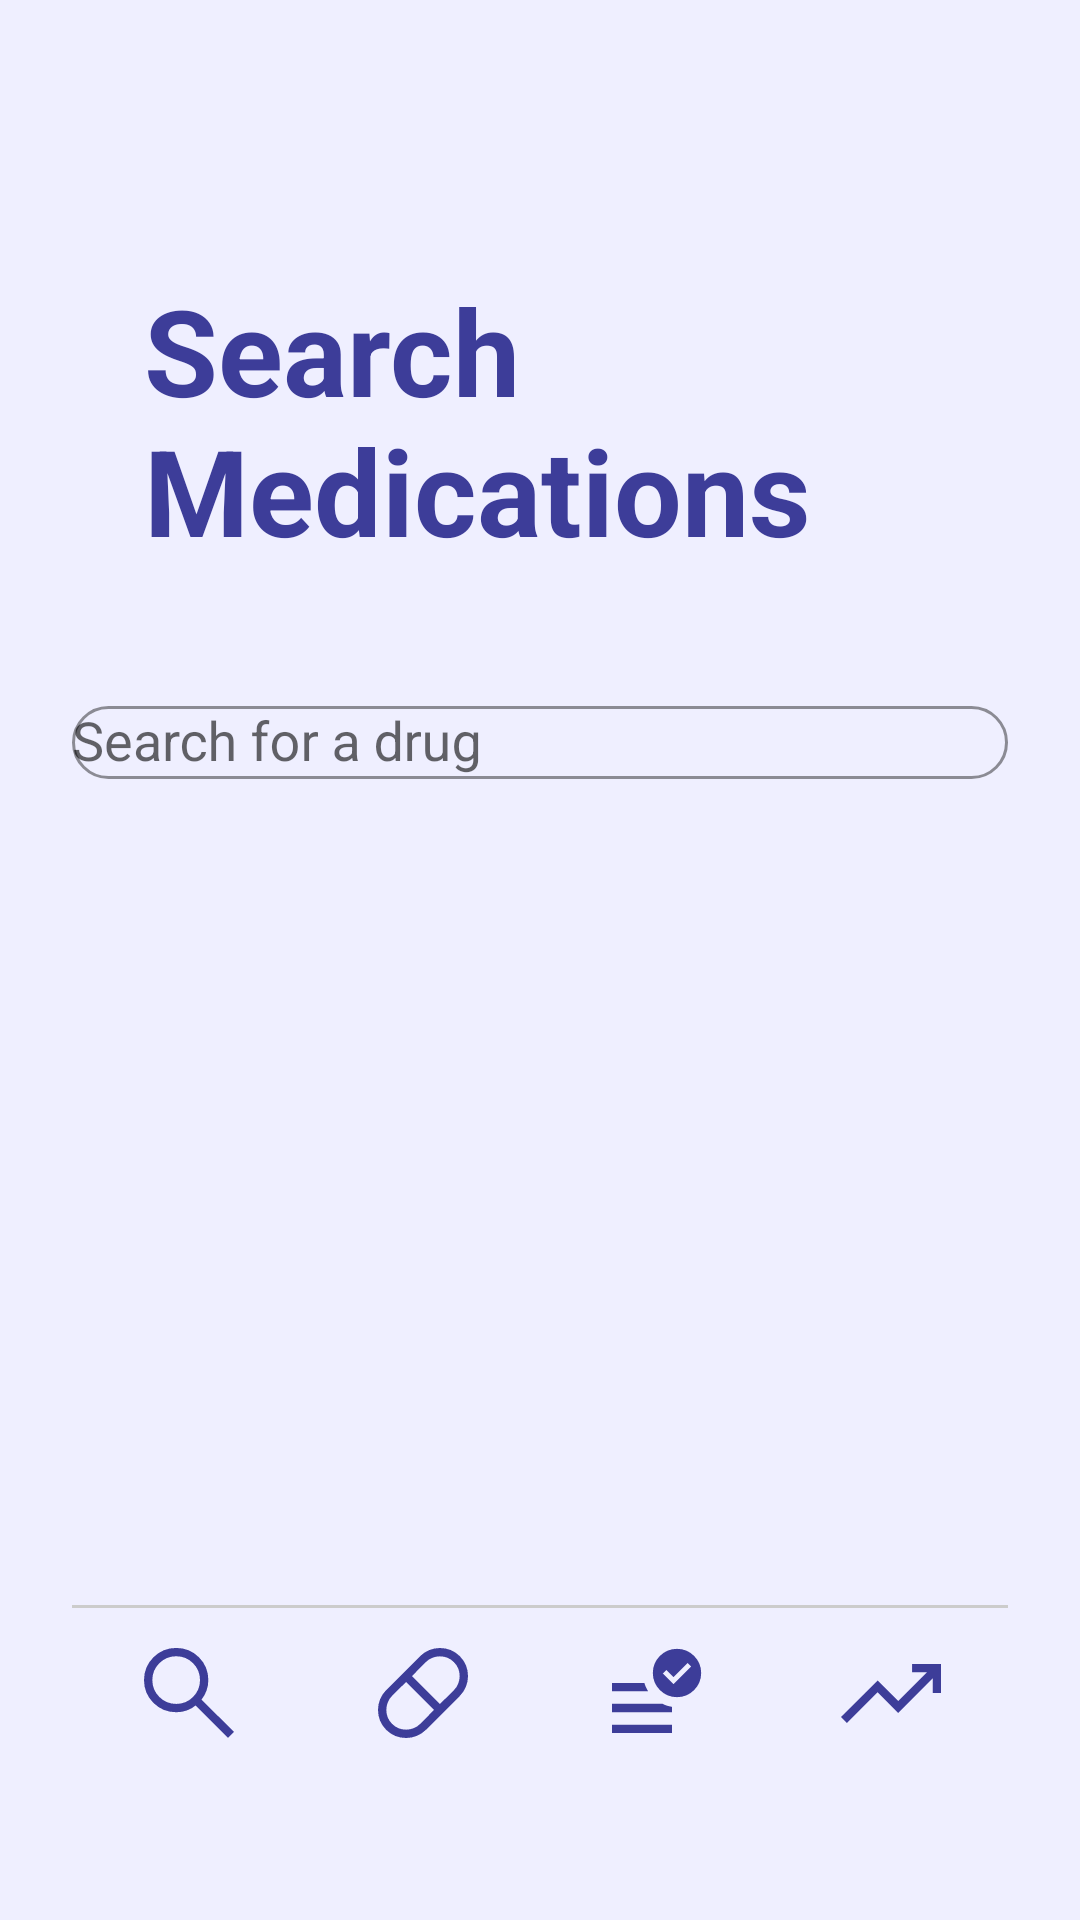

Screen size 1080px×1920px. Icon name, then its center in pixels as (x,y):
Logs: (656,1691)
Meds: (423,1693)
Search: (189,1693)
Stats: (891,1693)
